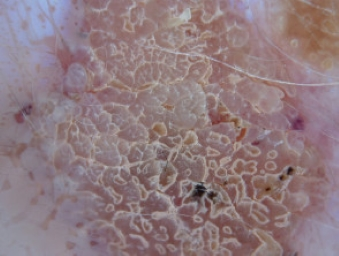seborrheic keratosis: (29, 10, 315, 248)
